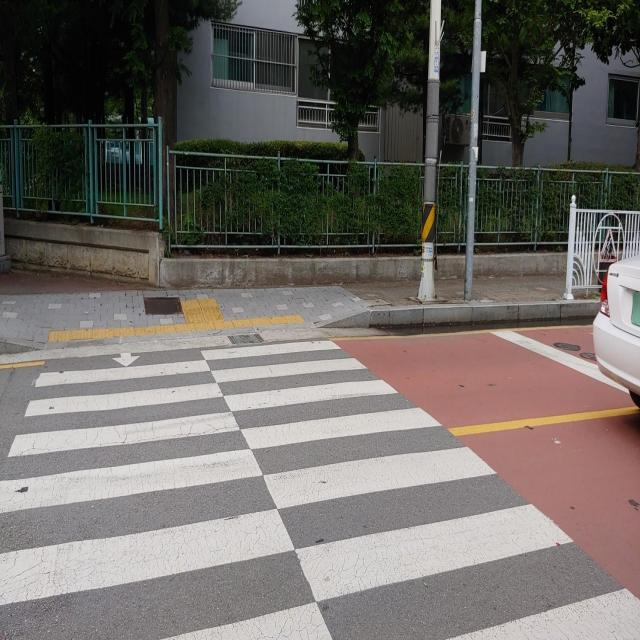횡단보도: (0, 333, 640, 640)
